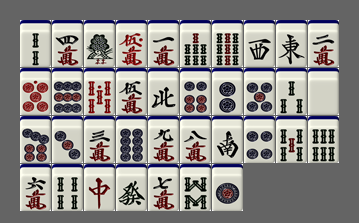0m: (116, 20, 147, 67)
0p: (20, 68, 51, 115)
0s: (84, 68, 115, 115)
1m: (148, 20, 179, 67)
1p: (212, 164, 243, 211)
1s: (84, 20, 115, 67)
1z: (276, 20, 307, 67)
2m: (308, 20, 339, 67)
2p: (212, 68, 243, 115)
2s: (20, 20, 51, 67)
2z: (212, 116, 243, 163)
3m: (84, 116, 115, 163)
3p: (52, 116, 83, 163)
3s: (276, 68, 307, 115)
3z: (244, 20, 275, 67)
4m: (52, 20, 83, 67)
4p: (244, 116, 275, 163)
4s: (52, 164, 83, 211)
4z: (148, 68, 179, 115)
5m: (116, 68, 147, 115)
5p: (244, 68, 275, 115)
5s: (276, 116, 307, 163)
5z: (308, 68, 339, 115)
6m: (20, 164, 51, 211)
6p: (180, 68, 211, 115)
6s: (308, 116, 339, 163)
6z: (116, 164, 147, 211)
7m: (148, 164, 179, 211)
7p: (20, 116, 51, 163)
7s: (180, 20, 211, 67)
7z: (84, 164, 115, 211)
8m: (180, 116, 211, 163)
8p: (116, 116, 147, 163)
8s: (180, 164, 211, 211)
9m: (148, 116, 179, 163)
9p: (52, 68, 83, 115)
9s: (212, 20, 243, 67)
